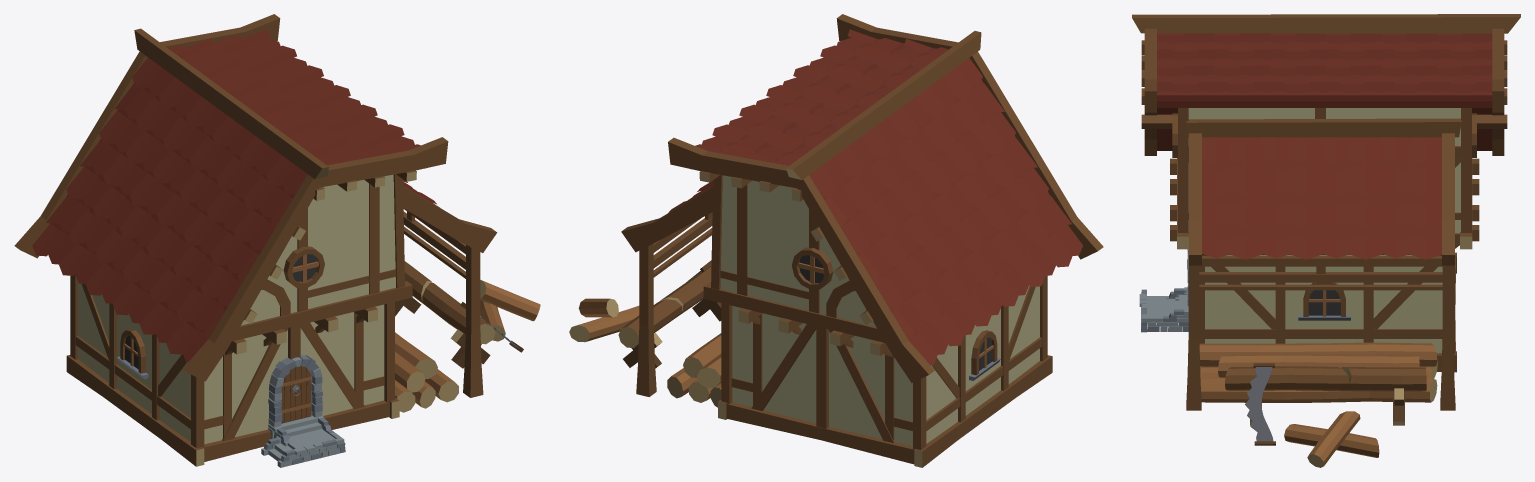
Rendered from sawmill.glb.
The picture shows the model from 3 angles, left to right: view 1: azimuth 30°, elevation 25°; view 2: azimuth 150°, elevation 25°; view 3: azimuth 270°, elevation 25°; orthographic projection. The views are drawn at different scales.
Parts seen in each view (by area): view 1: Sawmill; view 2: Sawmill; view 3: Sawmill.
Part boxes in pixels (x1=…): Sawmill: x1=14, y1=14, x2=540, y2=467; Sawmill: x1=569, y1=14, x2=1103, y2=467; Sawmill: x1=1132, y1=14, x2=1520, y2=467.
Bounding box in the file's own units: 4.4 × 2.86 × 3.28.
